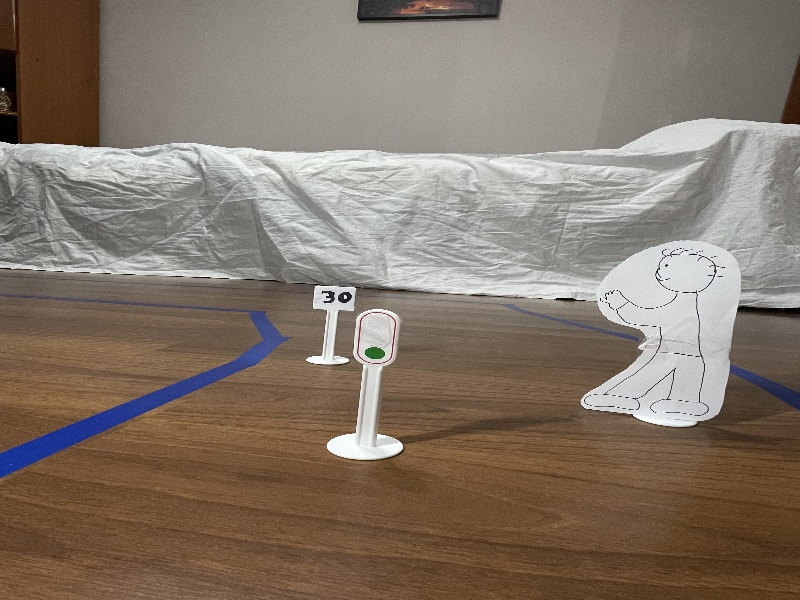persoana: (581, 232, 747, 432)
semafor_verde: (354, 306, 402, 368)
viteza_limita_30: (309, 281, 360, 313)
